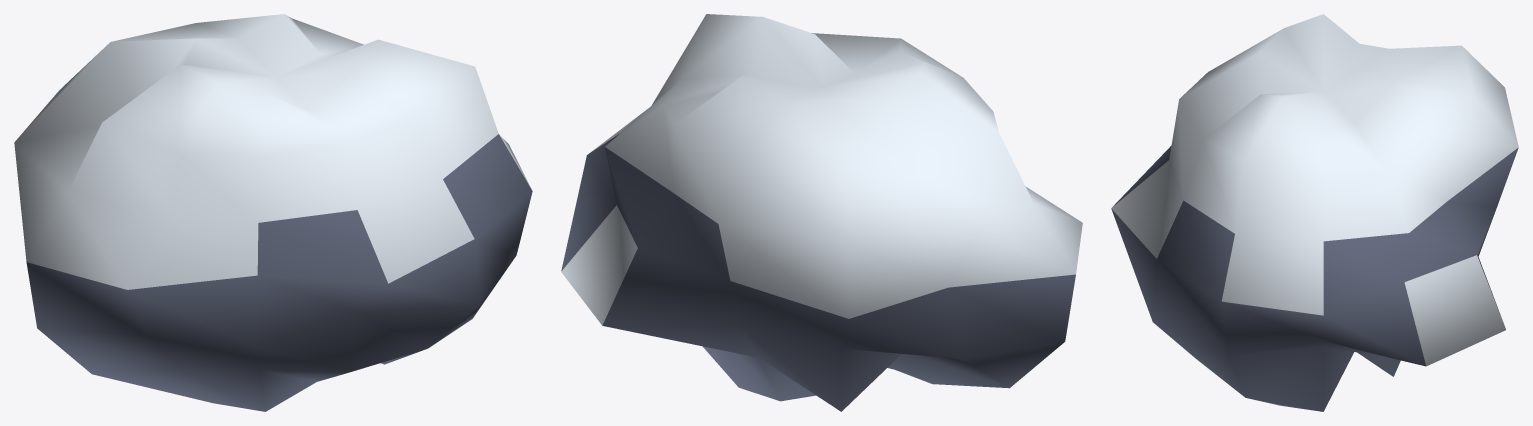
File: Rock0.fbx
3 renders of one model, left to right at view 1: azimuth 30°, elevation 25°; view 2: azimuth 150°, elevation 25°; view 3: azimuth 270°, elevation 25°, orthographic. The views are drawn at different scales.
Parts seen in each view (by area): view 1: Rock; view 2: Rock; view 3: Rock.
Part boxes in pixels (x1,y1,x2,y2): Rock: (14, 14, 532, 411); Rock: (561, 14, 1082, 411); Rock: (1111, 14, 1518, 411).
Bounding box in the file's own units: 3.31 × 2.16 × 2.57.
